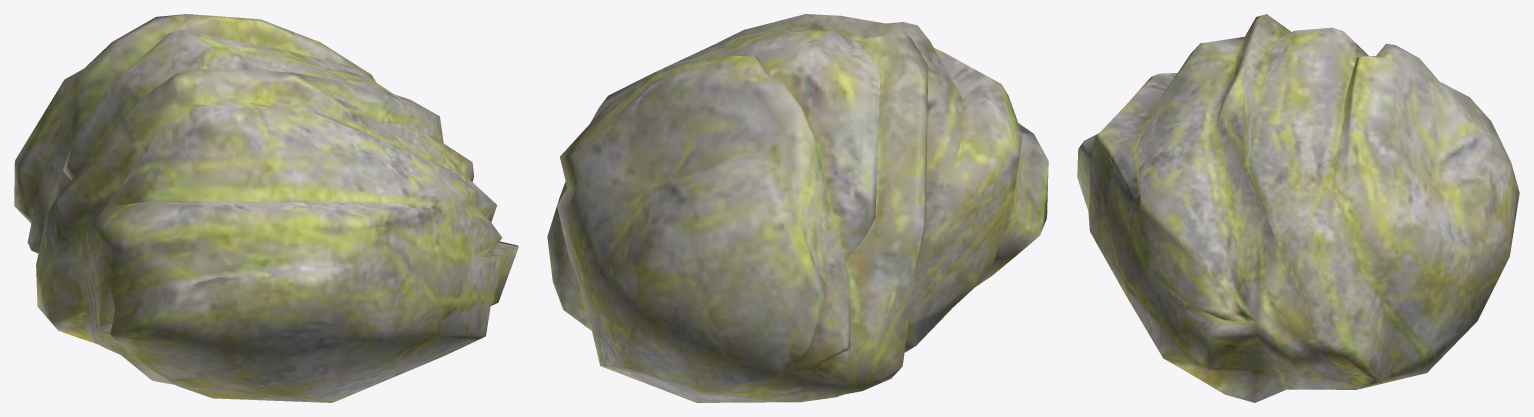
Rendered from ore_sulfur.glb.
3 views of the same model, side by side, from view 1: azimuth 30°, elevation 25°; view 2: azimuth 150°, elevation 25°; view 3: azimuth 270°, elevation 25° (orthographic). The views are drawn at different scales.
Visible parts, largest first — view 1: ore_sulfur; view 2: ore_sulfur; view 3: ore_sulfur.
Boxes of the visible parts, left/top/right/bottom form: ore_sulfur: left=14, top=14, right=518, bottom=402; ore_sulfur: left=547, top=14, right=1048, bottom=402; ore_sulfur: left=1077, top=14, right=1519, bottom=402.
Size of the model in its own units: 4.4 by 3.66 by 4.68.
Materials: 1 (1 with a texture image).
